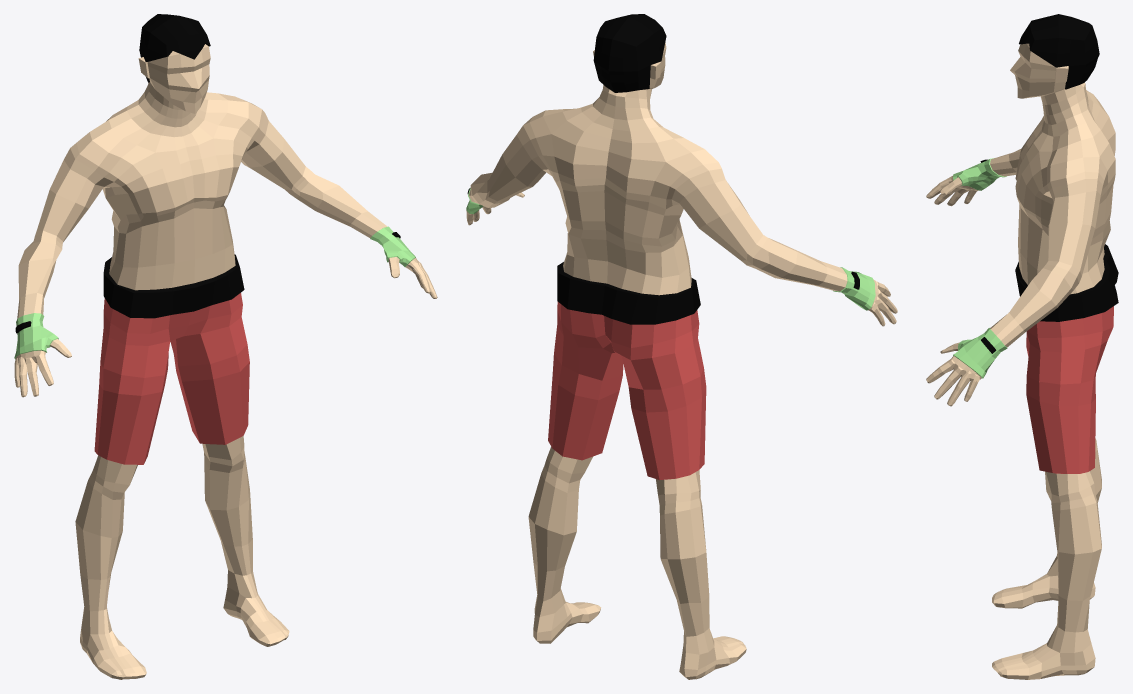
The model's file is paladin_mesh.glb.
The picture shows the model from 3 angles, left to right: view 1: azimuth 30°, elevation 25°; view 2: azimuth 150°, elevation 25°; view 3: azimuth 270°, elevation 25°; orthographic projection. The views are drawn at different scales.
Parts seen in each view (by area): view 1: fighter_03.001; view 2: fighter_03.001; view 3: fighter_03.001.
Boxes of the visible parts, <box> form: fighter_03.001: <box>14,14,437,679</box>; fighter_03.001: <box>466,14,897,679</box>; fighter_03.001: <box>926,14,1118,679</box>.
Bounding box in the file's own units: 0.015 × 0.0216 × 0.00605.
Materials: 1 (1 with a texture image).
